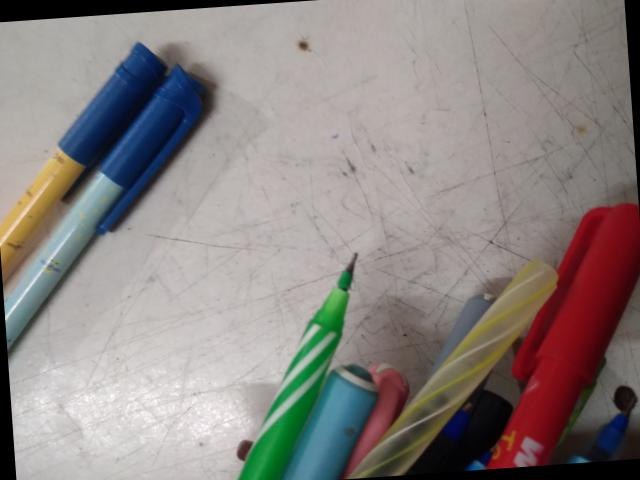PEN: (142, 0, 462, 235), (3, 228, 238, 404), (24, 431, 307, 480)
